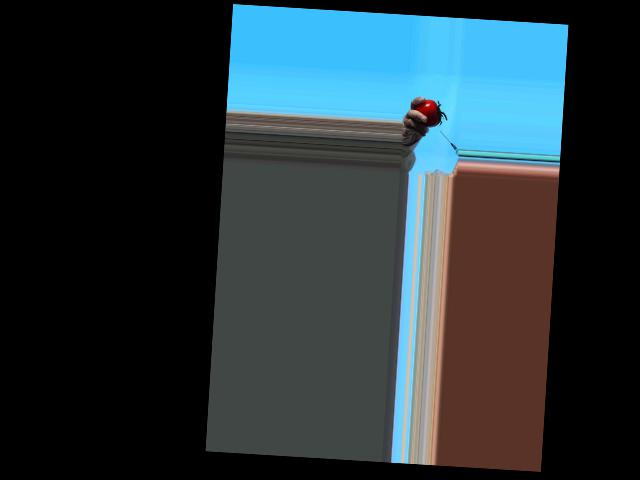tomato: (413, 98, 442, 127)
